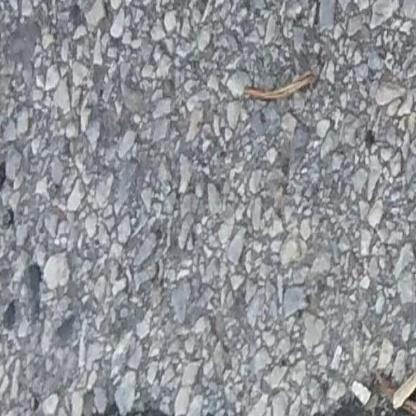Cracks: (305, 379, 416, 416), (71, 409, 244, 416)
